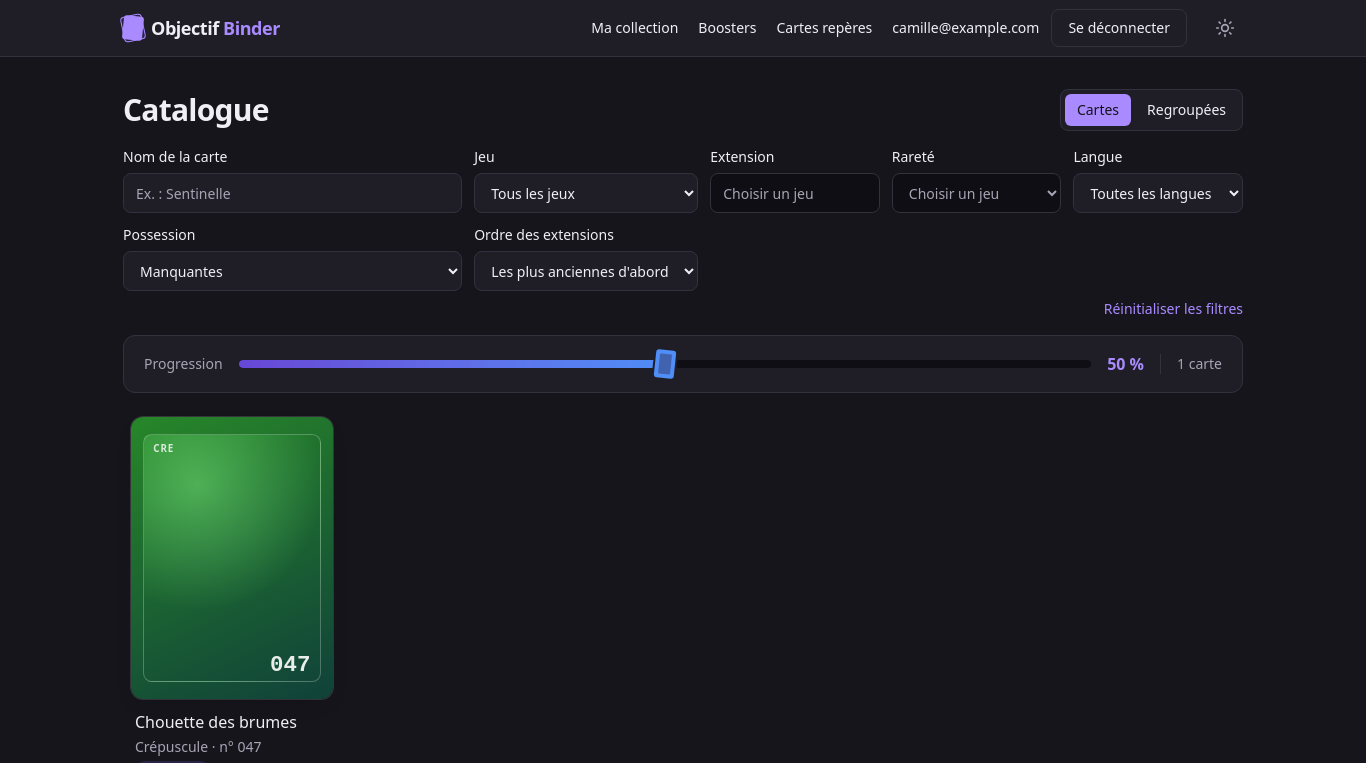
Test case: ownership filter of the catalogue › is cleared with the other filters
Click the button "Réinitialiser les filtres" at (1173, 309), box [1104,299,1243,319]
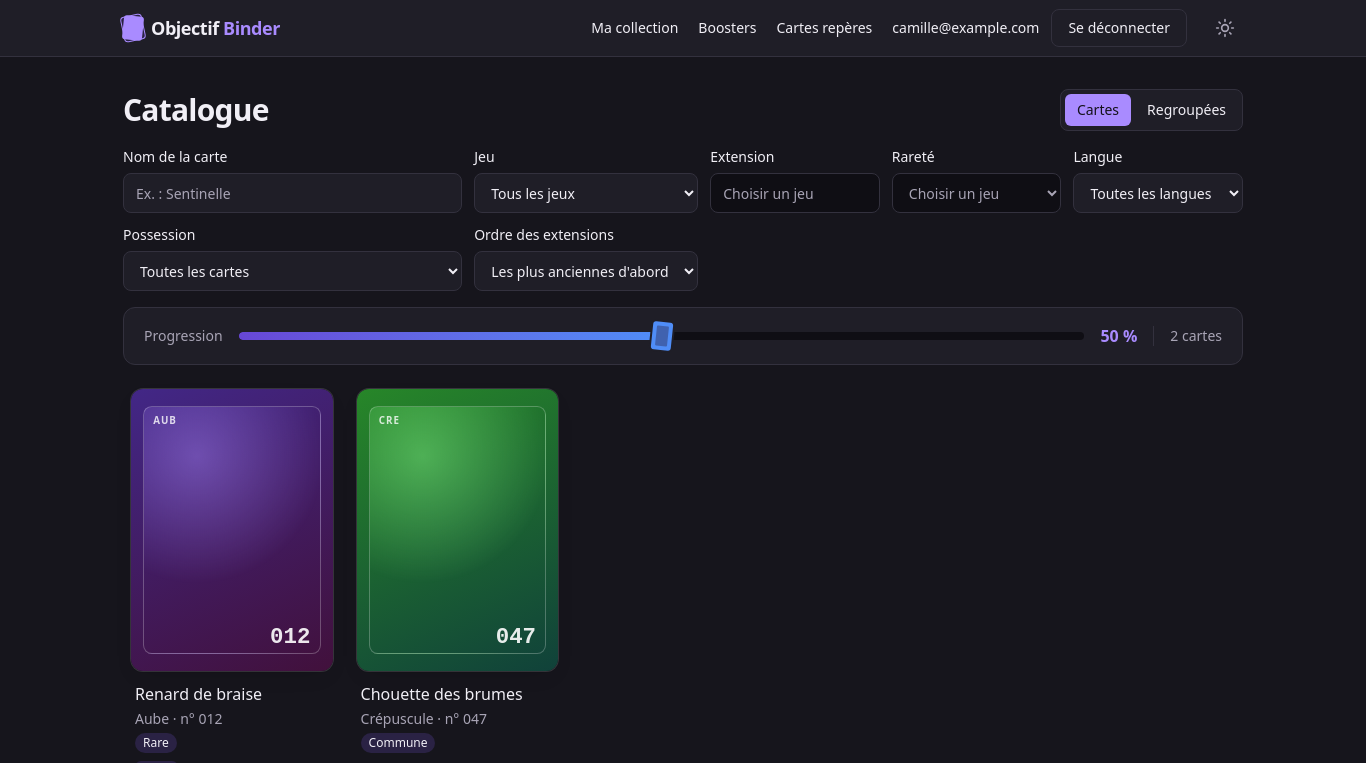
Now the dropdown labelled "Possession" shows "Toutes les cartes", box [123,251,462,291]
